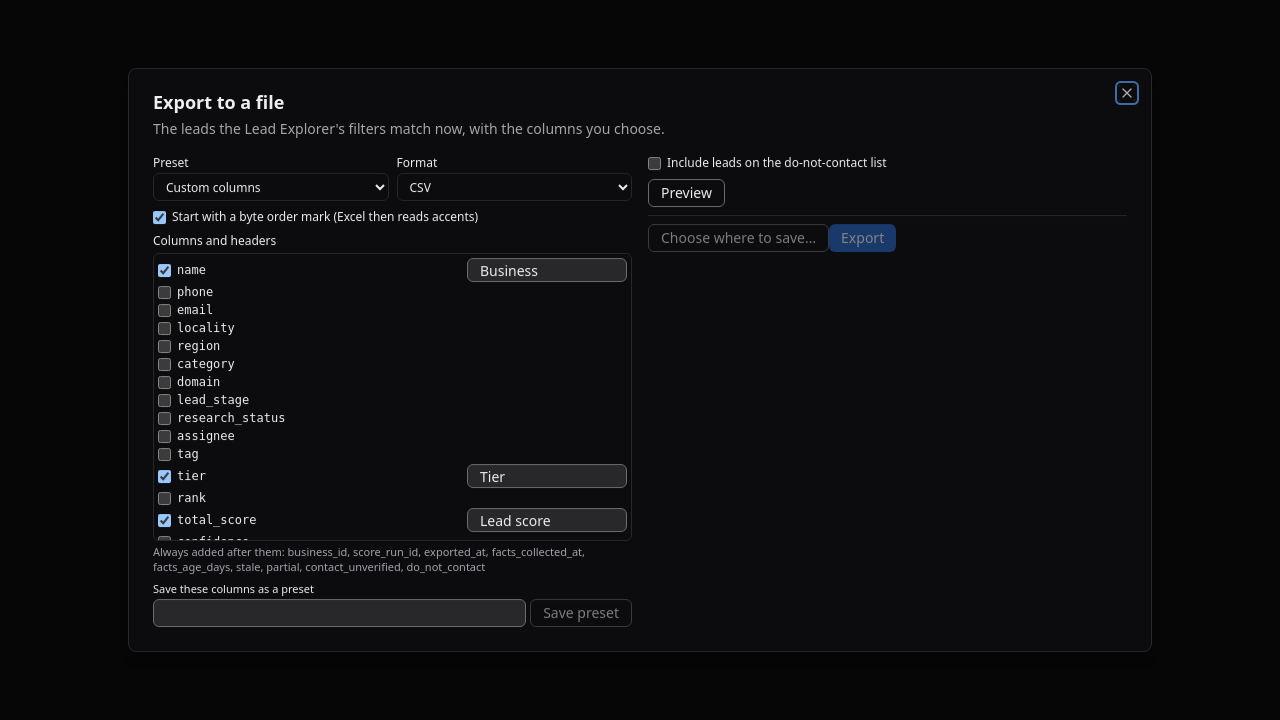
Test: ExportWizard › previews the rows as written, takes the destination from the core's dialog and follows the file to its end
expect the button "Export" is disabled: met, box [829,224,896,252]
expect the button "Choose where to save…" is disabled: met, box [648,224,829,252]
Click the button "Preview" at (686, 193), box [648,179,725,207]
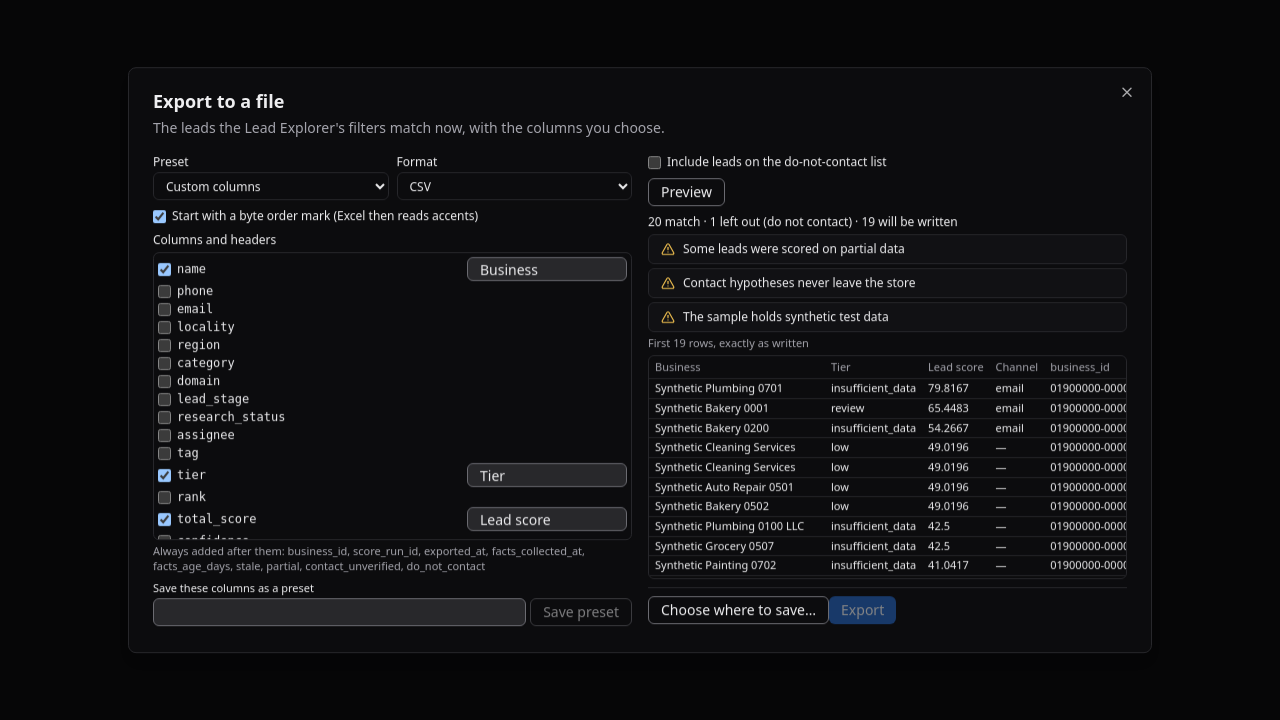
expect the text "20 match · 1 left out (do not contact) · 19 will be written" is shown: met, box [648,213,958,230]
expect the text "Synthetic Plumbing 0701" is shown: met, box [649,379,825,399]
Click the button "Choose where to save…" at (739, 610), box [648,596,829,624]
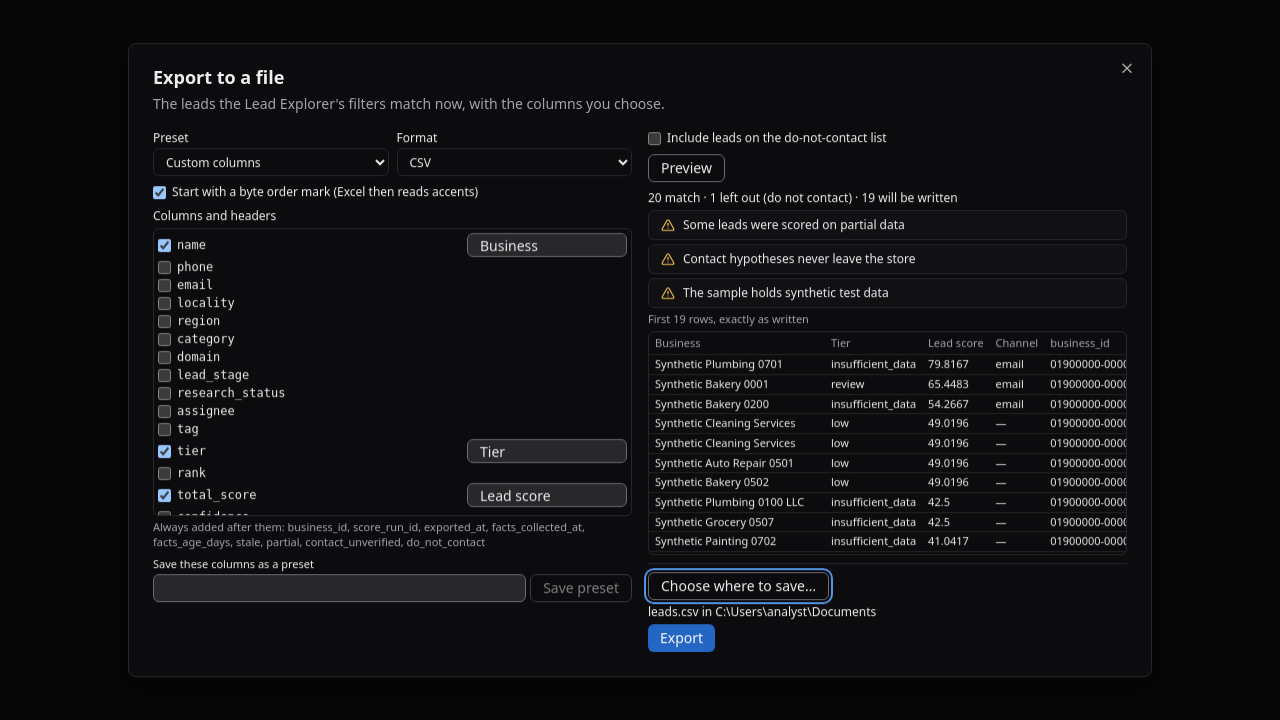
expect the text "leads.csv in C:\\Users\\analyst\\Documents" is shown: met, box [648,603,876,620]
Click the button "Export" at (682, 638), box [648,624,715,652]
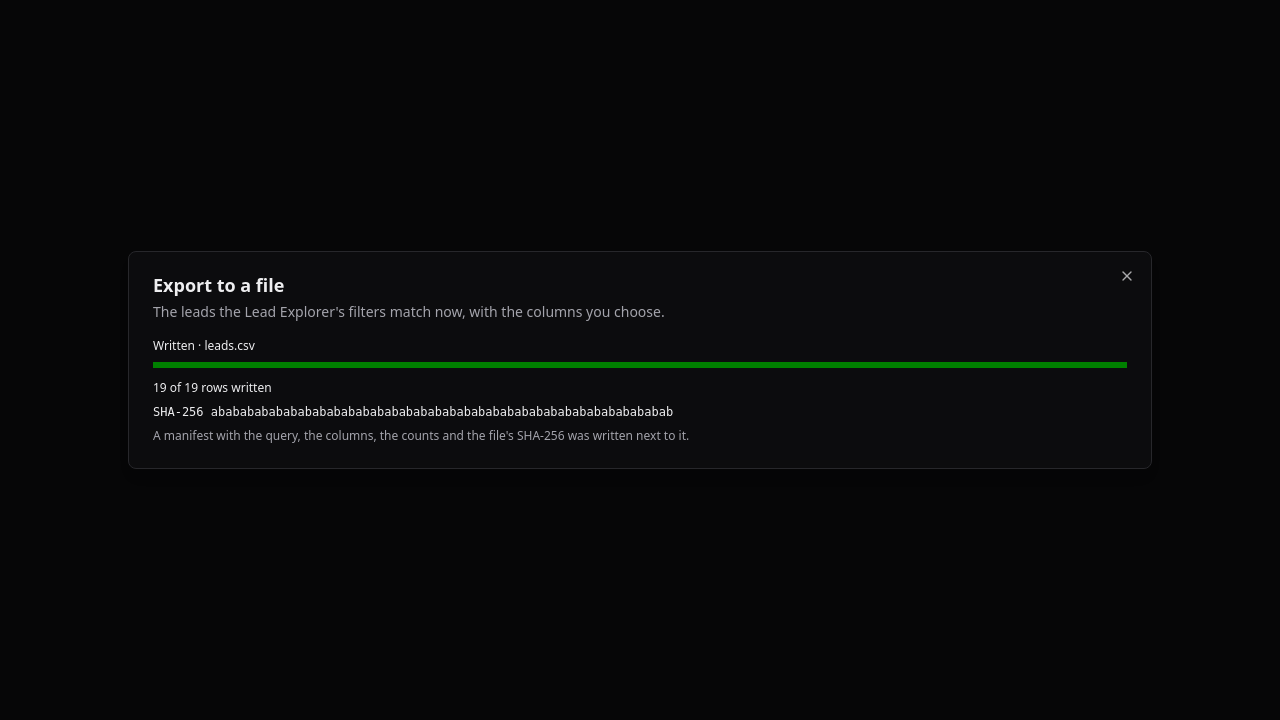
expect the text "Written · leads.csv" is shown: met, box [153,337,255,354]
